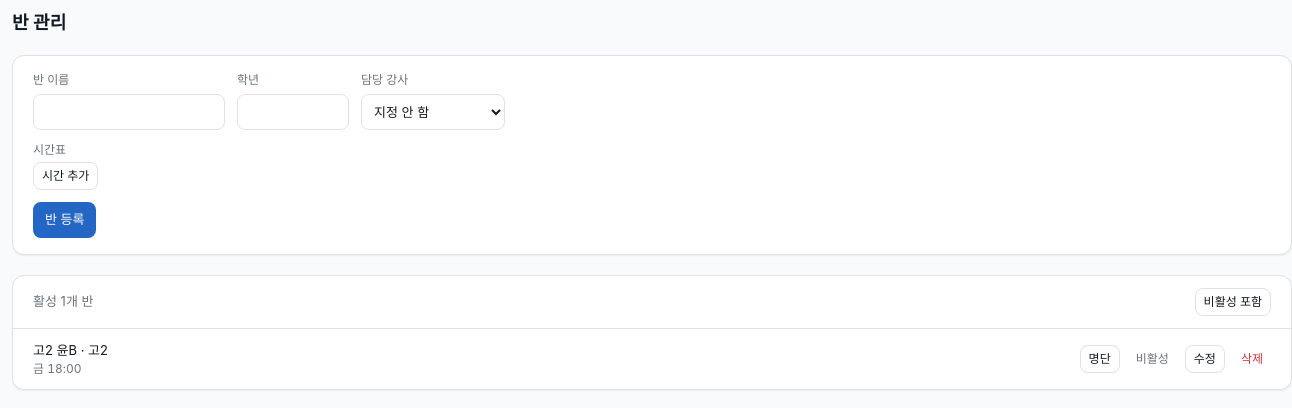
it: ClassesPage › deletes an active class straight from the row without asking
What coordinates should you click on to do the following:
click the button with aria-label "고2 윤B 삭제"
I would click on:
 (1252, 359)
Its box is left=1233, top=345, right=1271, bottom=373.
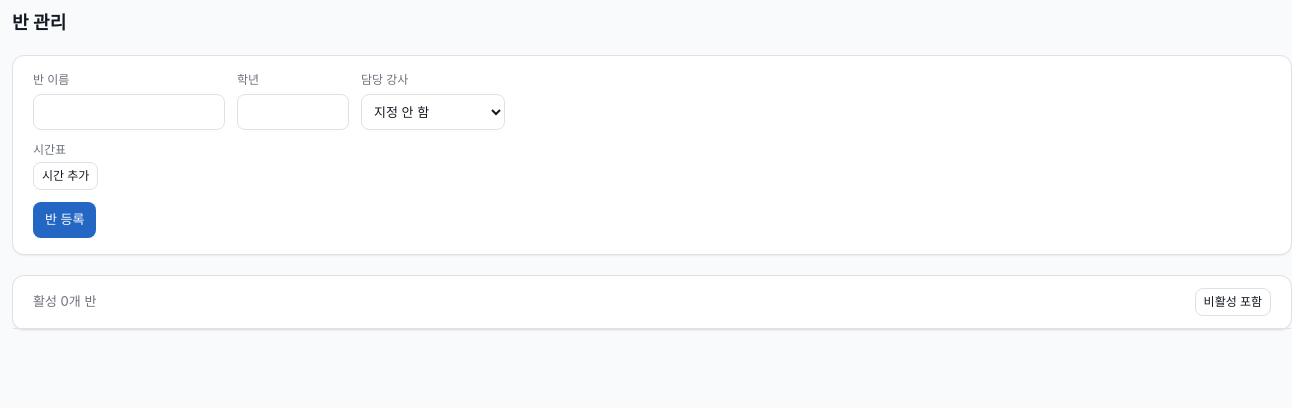
Expected: the text "고2 윤B" is gone
